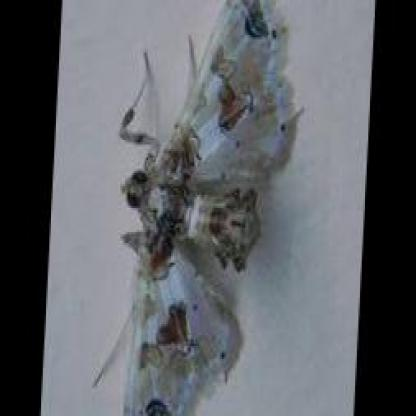leucinodes: (109, 90, 414, 301)
